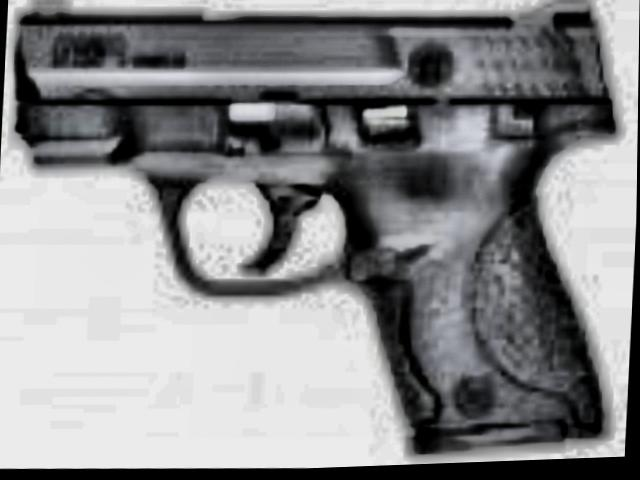pistol: (0, 0, 628, 466)
